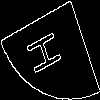H: (25, 24, 69, 77)
